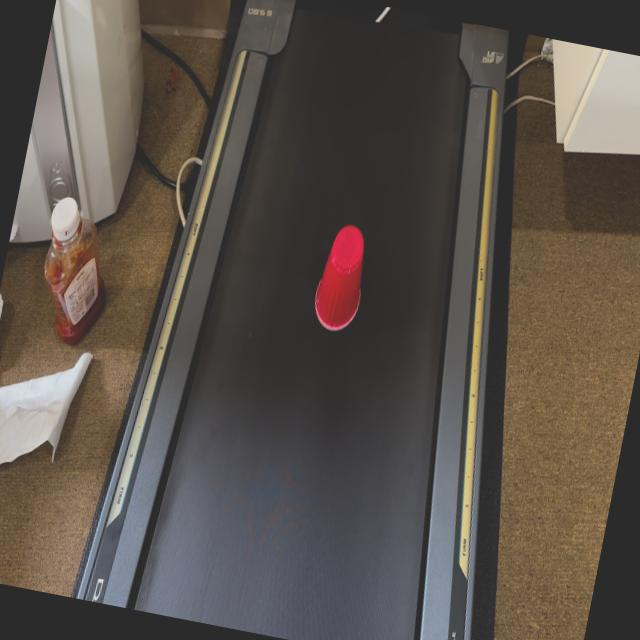Recycle: (308, 221, 375, 337)
